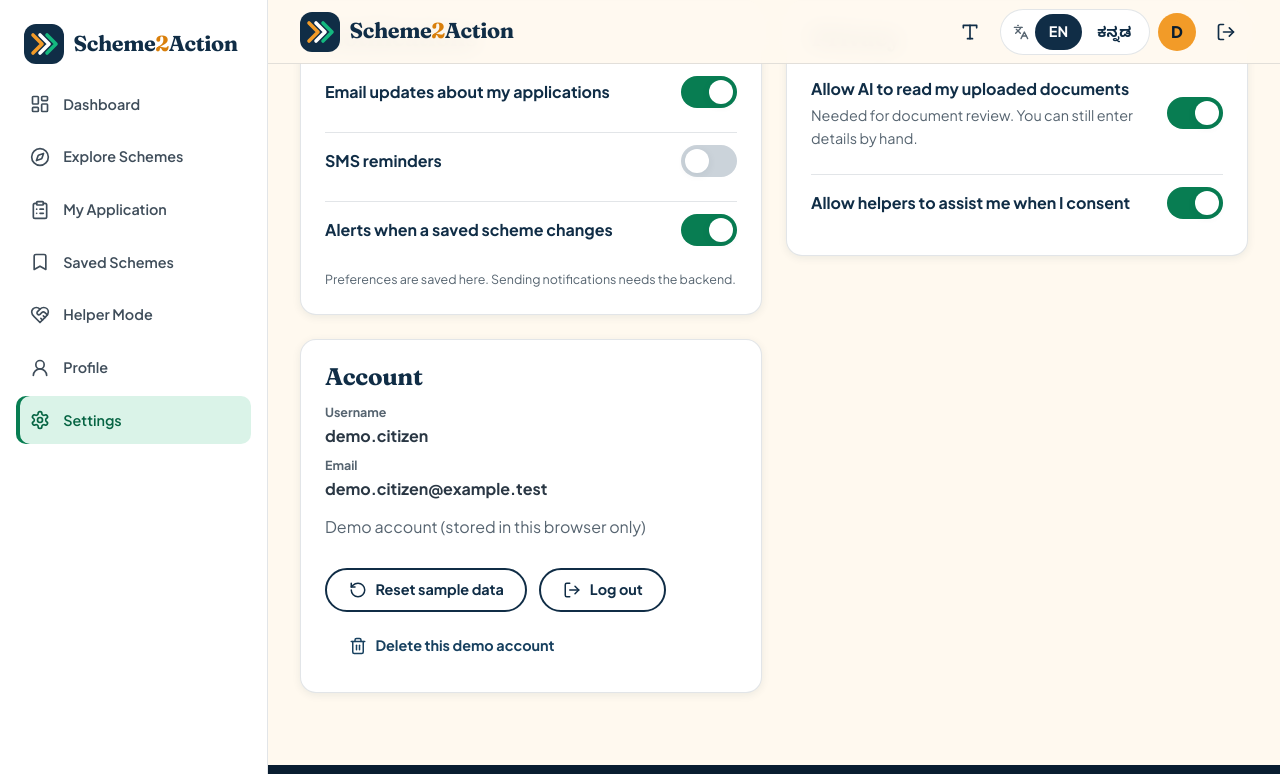
Test case: settings › resets sample data and logs out
(page scrolled)
Click the button "Reset sample data". click: (426, 590)
box: 325,568 -> 527,612
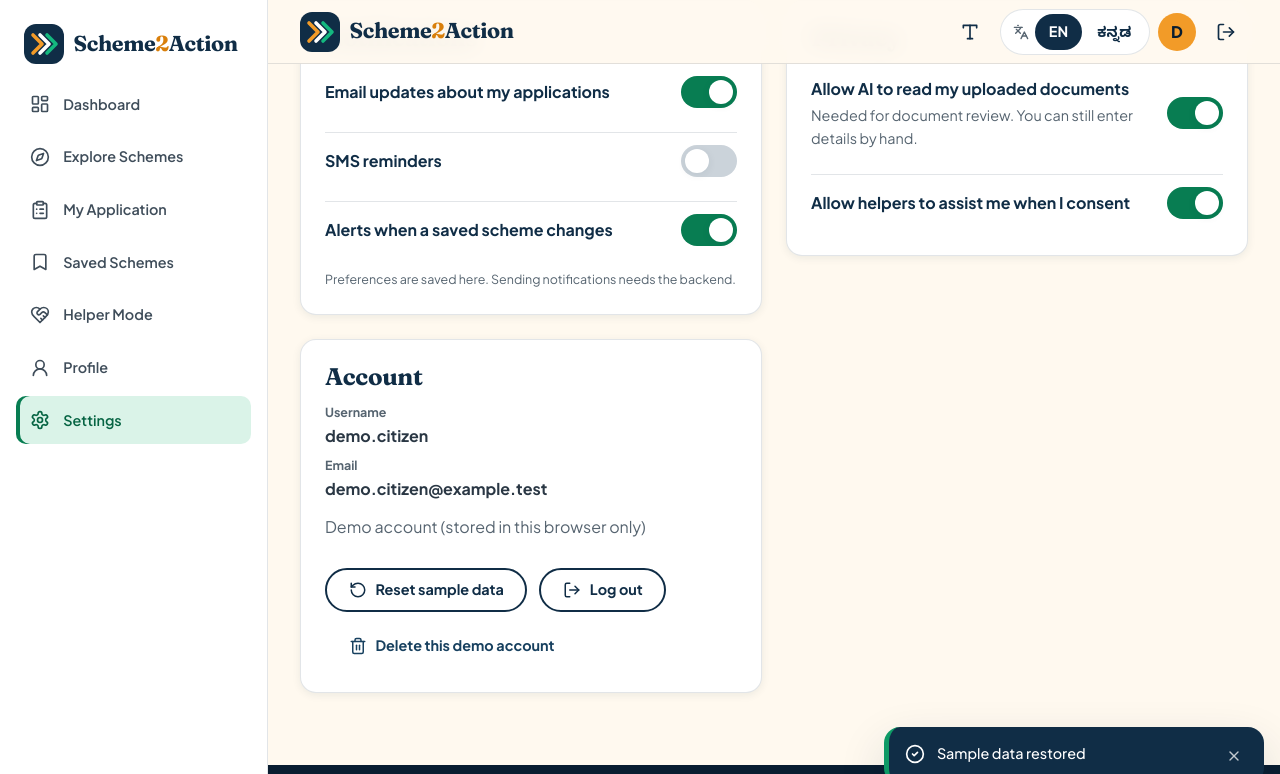
Expected: the text "Sample data restored" is shown, 937,744 -> 1086,762
Click the button "Log out". click: (603, 590)
box: 539,568 -> 666,612
(page scrolled)
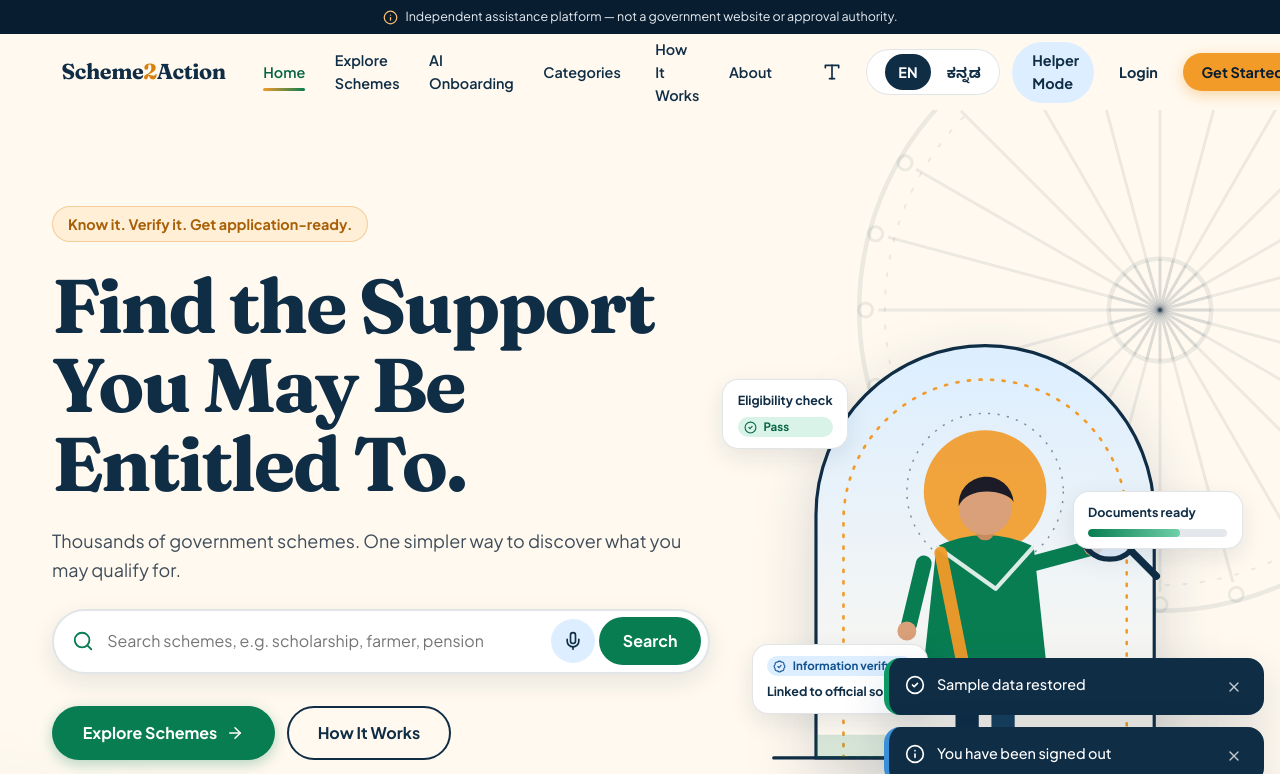
Expected: the heading "Find the Support You May Be Entitled To." is shown, 52,266 -> 710,503
